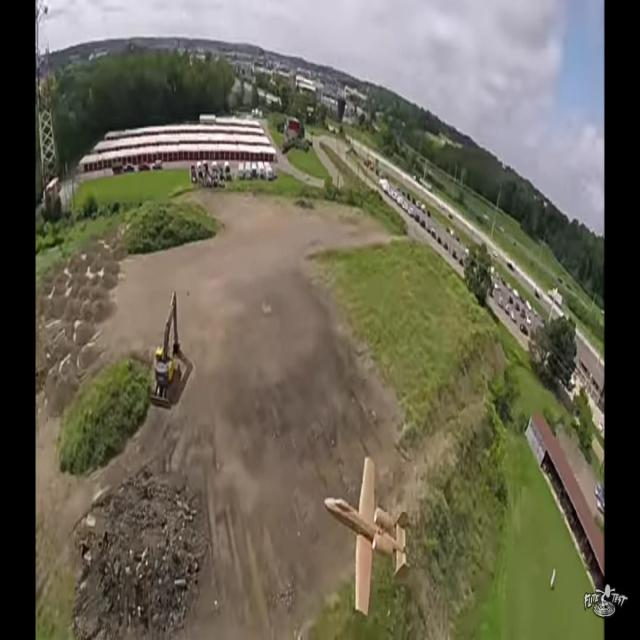iha: (356, 456, 379, 616)
